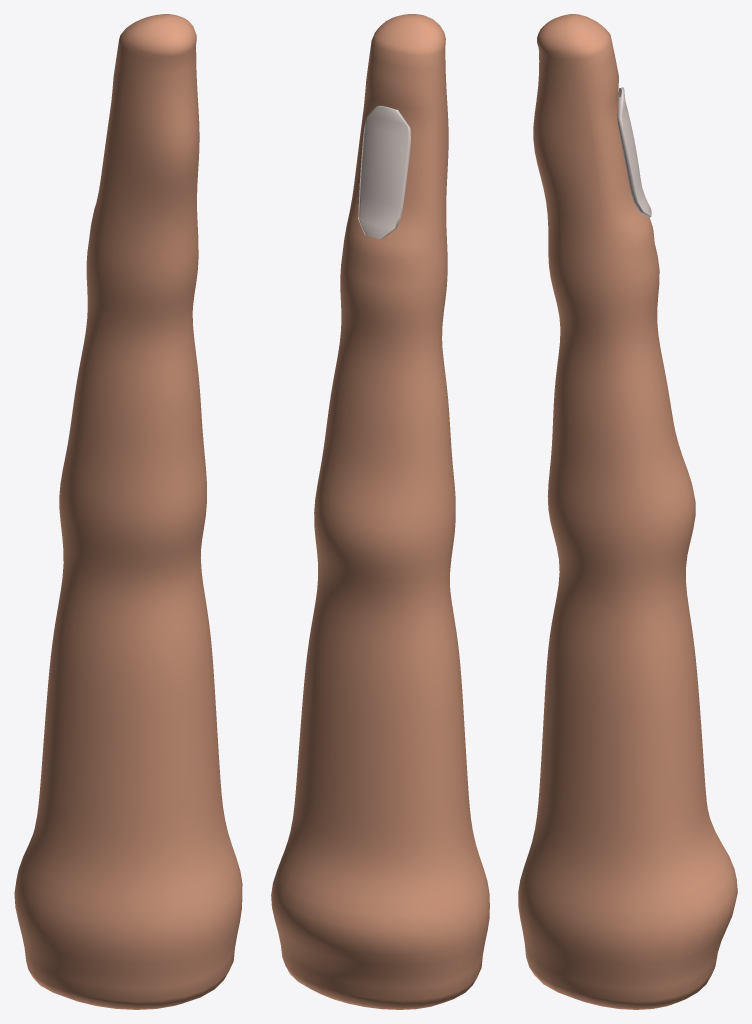
File: Finger.obj
The picture shows the model from 3 angles, left to right: view 1: azimuth 30°, elevation 25°; view 2: azimuth 150°, elevation 25°; view 3: azimuth 270°, elevation 25°; orthographic projection. The views are drawn at different scales.
Visible parts, largest first — view 1: IndexFinger; view 2: IndexFinger; view 3: IndexFinger.
Part boxes in pixels (bbox=[...]): IndexFinger: bbox=[14, 14, 242, 1009]; IndexFinger: bbox=[271, 14, 489, 1009]; IndexFinger: bbox=[518, 14, 737, 1009].
Bounding box in the file's own units: 0.0213 × 0.1002 × 0.0206.
